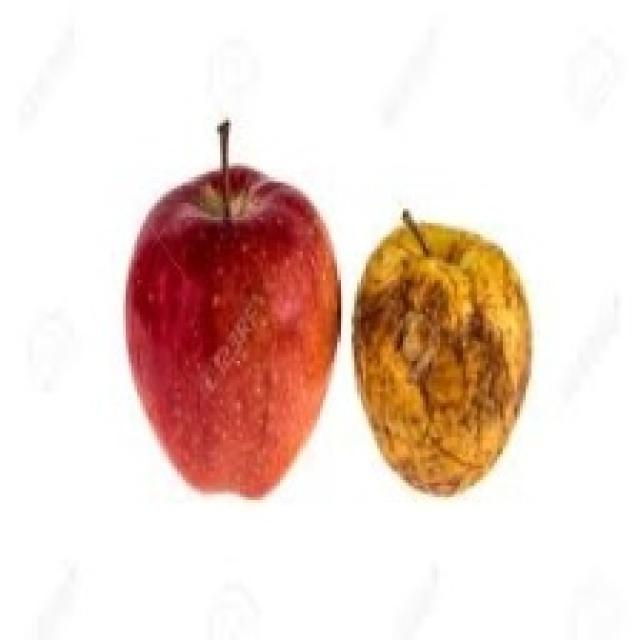rotten_apple: (357, 230, 530, 491)
